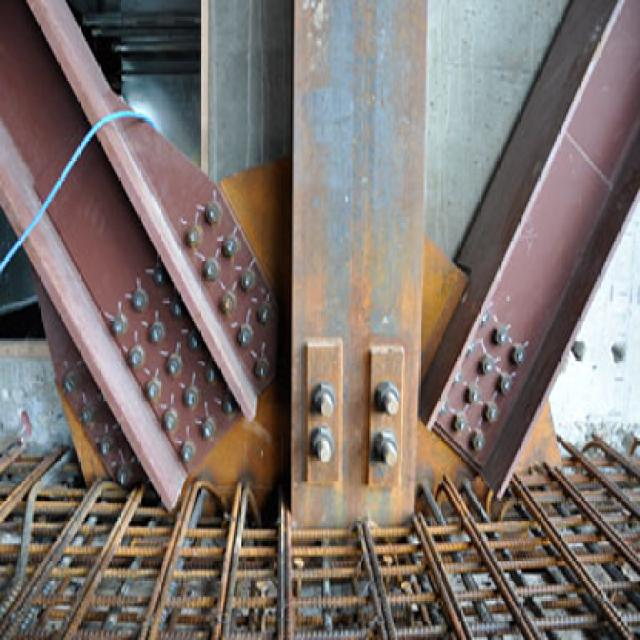Regular bolt: (366, 430, 413, 478), (303, 428, 346, 476), (304, 377, 342, 422), (377, 382, 411, 425), (197, 419, 225, 446), (126, 285, 153, 312), (75, 402, 104, 427), (147, 321, 171, 351), (176, 385, 202, 412), (104, 312, 130, 338), (161, 354, 189, 378), (173, 439, 197, 466), (202, 200, 225, 228), (239, 267, 263, 293), (59, 368, 85, 391), (114, 462, 136, 488), (147, 375, 165, 406), (165, 301, 188, 325), (216, 293, 238, 318), (182, 227, 202, 254), (199, 364, 221, 388), (497, 375, 519, 399), (163, 412, 183, 438), (237, 322, 260, 344), (492, 327, 514, 350), (222, 394, 241, 420), (219, 236, 239, 260), (479, 355, 499, 379), (149, 264, 170, 286), (480, 404, 501, 426), (184, 331, 205, 352), (256, 304, 275, 327), (251, 355, 269, 379), (98, 436, 116, 460), (471, 435, 491, 456), (204, 259, 221, 283), (513, 347, 532, 368), (449, 414, 468, 435), (465, 384, 483, 406), (130, 347, 145, 371)
